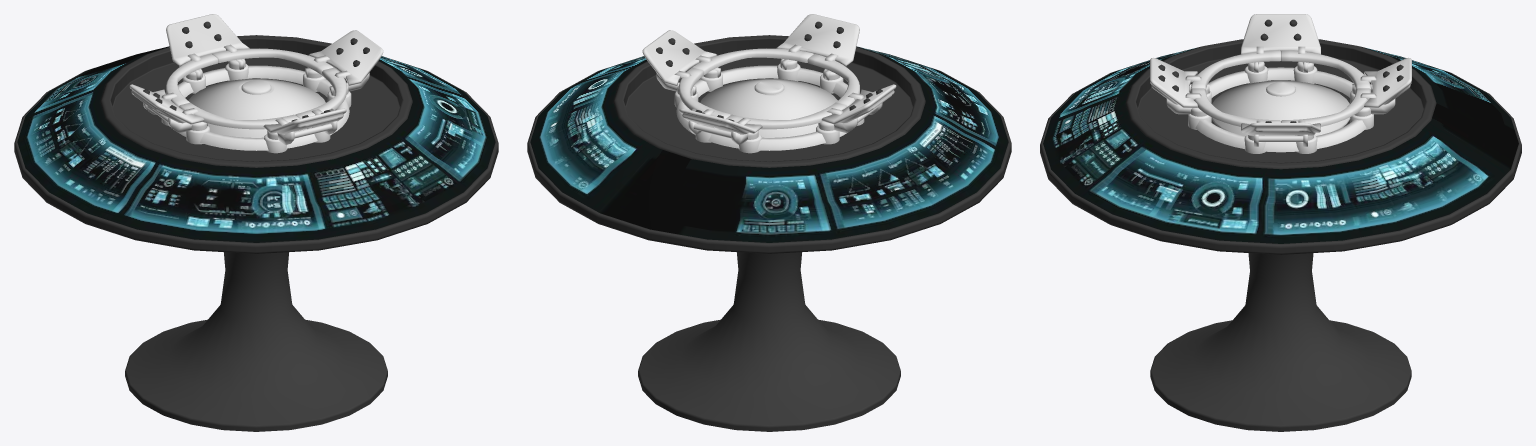
The model's file is tableOnly-transformed.glb.
The picture shows the model from 3 angles, left to right: view 1: azimuth 30°, elevation 25°; view 2: azimuth 150°, elevation 25°; view 3: azimuth 270°, elevation 25°; orthographic projection.
Parts seen in each view (by area): view 1: table_base, table.001, table; view 2: table_base, table.001, table; view 3: table_base, table.001, table.
Part boxes in pixels (x1=…): table_base: x1=14, y1=35, x2=498, y2=431; table.001: x1=17, y1=46, x2=495, y2=242; table: x1=129, y1=14, x2=383, y2=153; table_base: x1=527, y1=35, x2=1011, y2=431; table.001: x1=530, y1=46, x2=1008, y2=242; table: x1=642, y1=14, x2=896, y2=153; table_base: x1=1040, y1=39, x2=1521, y2=431; table.001: x1=1043, y1=46, x2=1518, y2=243; table: x1=1150, y1=14, x2=1411, y2=153.
Size of the model in its own units: 7.68 by 5.42 by 7.68.
2 materials, 1 textured.
